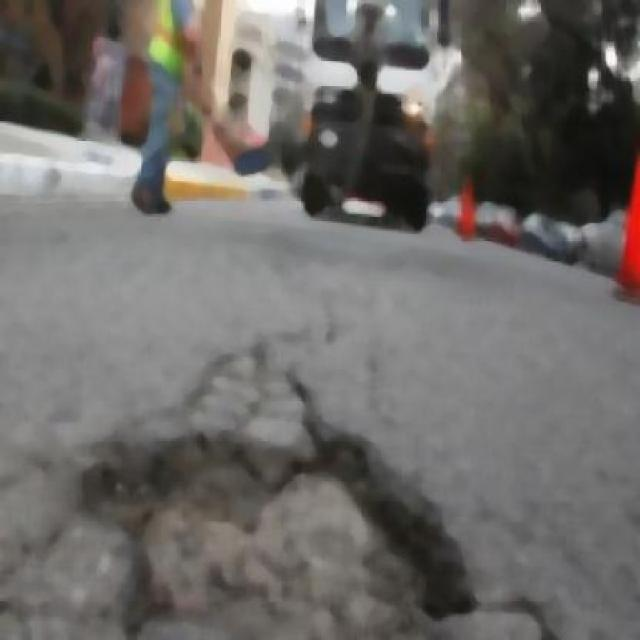Pothole: (102, 440, 450, 637)
